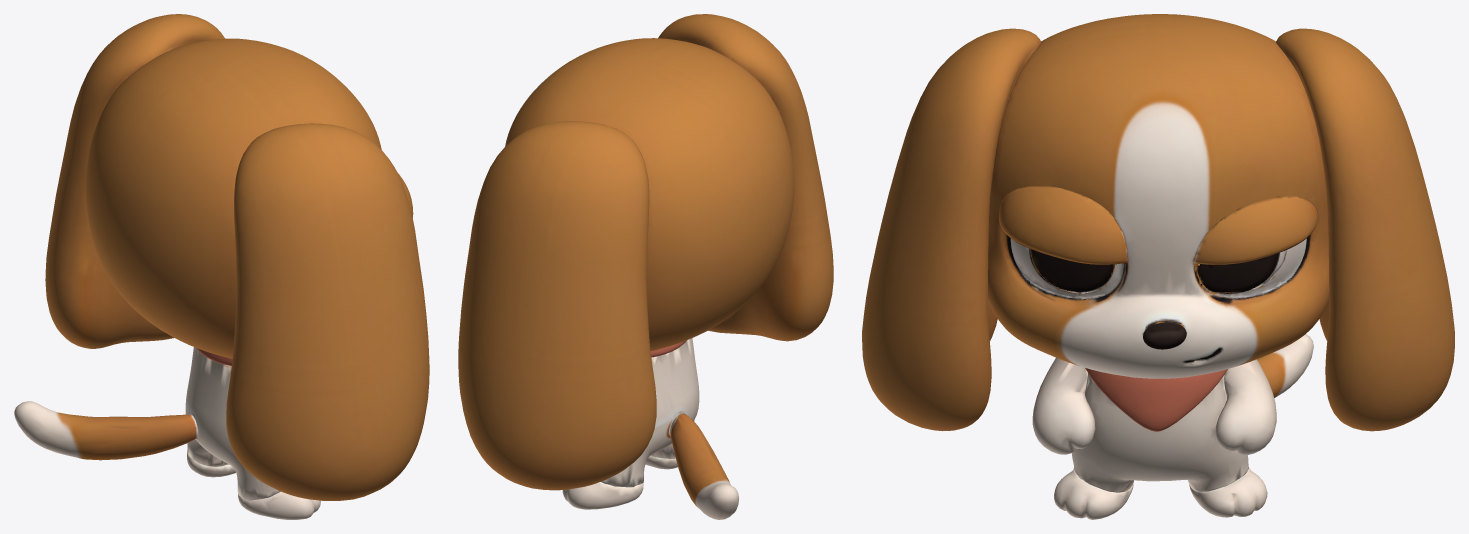
Rendered from beagle-smooth-appearance-v05.glb.
3 views of the same model, side by side, from view 1: azimuth 30°, elevation 25°; view 2: azimuth 150°, elevation 25°; view 3: azimuth 270°, elevation 25° (orthographic). The views are drawn at different scales.
Visible parts, largest first — view 1: tripo_part_2, tripo_part_0.001, tripo_part_1, tripo_part_4, tripo_part_3, tripo_part_8, tripo_part_11; view 2: tripo_part_1, tripo_part_0.001, tripo_part_2, tripo_part_3, tripo_part_4, tripo_part_11; view 3: tripo_part_0.001, tripo_part_2, tripo_part_1, tripo_part_3, tripo_part_6, tripo_part_10, tripo_part_9, tripo_part_7, tripo_part_5, tripo_part_8, tripo_part_11, tripo_part_4 (+1 smaller).
Part boxes in pixels (box(x1,y1,x2,y2)): tripo_part_2: box(226, 123, 429, 500); tripo_part_0.001: box(85, 38, 381, 358); tripo_part_1: box(45, 14, 224, 348); tripo_part_4: box(14, 401, 197, 460); tripo_part_3: box(185, 347, 280, 500); tripo_part_8: box(238, 491, 320, 519); tripo_part_11: box(187, 450, 235, 477); tripo_part_1: box(458, 121, 656, 490); tripo_part_0.001: box(505, 38, 794, 350); tripo_part_2: box(658, 14, 833, 341); tripo_part_3: box(601, 338, 699, 487); tripo_part_4: box(670, 413, 739, 519); tripo_part_11: box(562, 482, 643, 509); tripo_part_0.001: box(988, 14, 1329, 378); tripo_part_2: box(862, 28, 1040, 431); tripo_part_1: box(1276, 28, 1454, 431); tripo_part_3: box(1071, 373, 1248, 492); tripo_part_6: box(999, 186, 1127, 293); tripo_part_10: box(1193, 196, 1318, 292); tripo_part_9: box(1085, 368, 1227, 431); tripo_part_7: box(1032, 357, 1095, 454); tripo_part_5: box(1215, 359, 1276, 454); tripo_part_8: box(1054, 469, 1133, 519); tripo_part_11: box(1189, 468, 1267, 517); tripo_part_4: box(1257, 334, 1313, 397).
Bounding box in the file's own units: 1.28 × 1.7 × 1.95.
2 materials, 1 textured.
